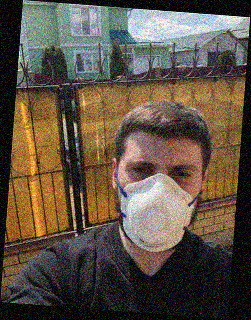with_mask: (116, 147, 201, 254)
